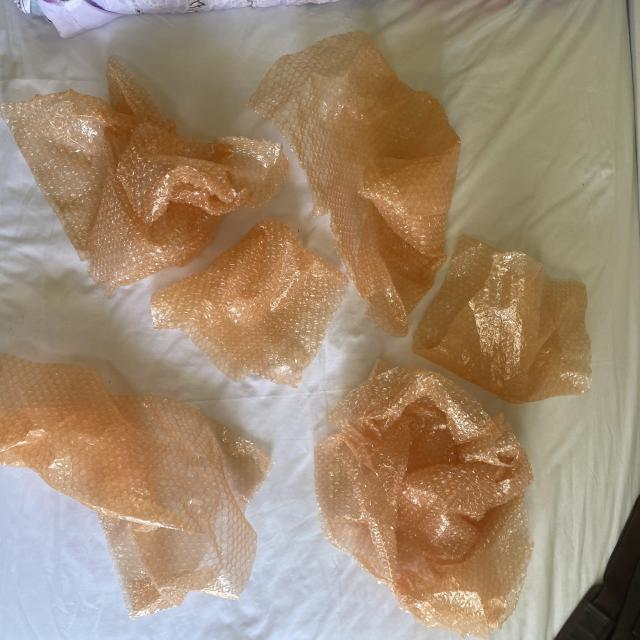Single-layer Plastic: (0, 353, 273, 621), (0, 55, 289, 296), (247, 32, 461, 335), (313, 369, 533, 640), (152, 224, 344, 387), (409, 236, 593, 406)
